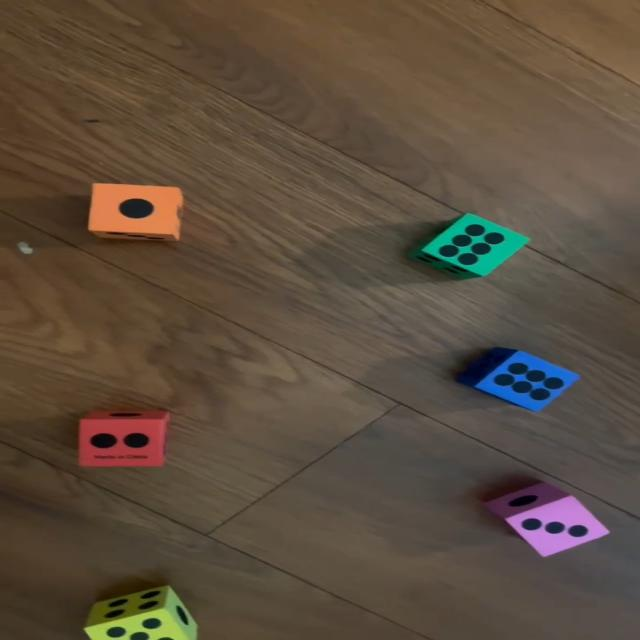blue_block: (452, 345, 578, 414)
red_block: (80, 410, 170, 467)
